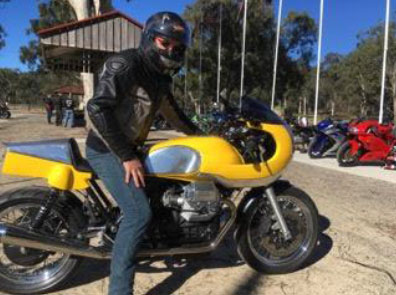helmet: (138, 8, 190, 87)
